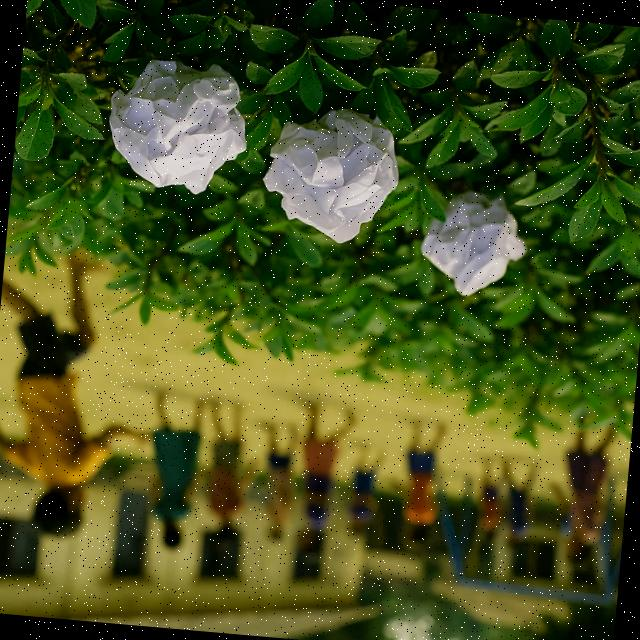paper: (108, 57, 250, 196), (263, 108, 402, 242), (418, 193, 532, 299)
